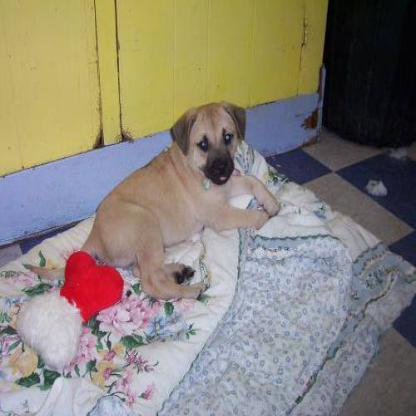dog: (94, 96, 289, 296)
